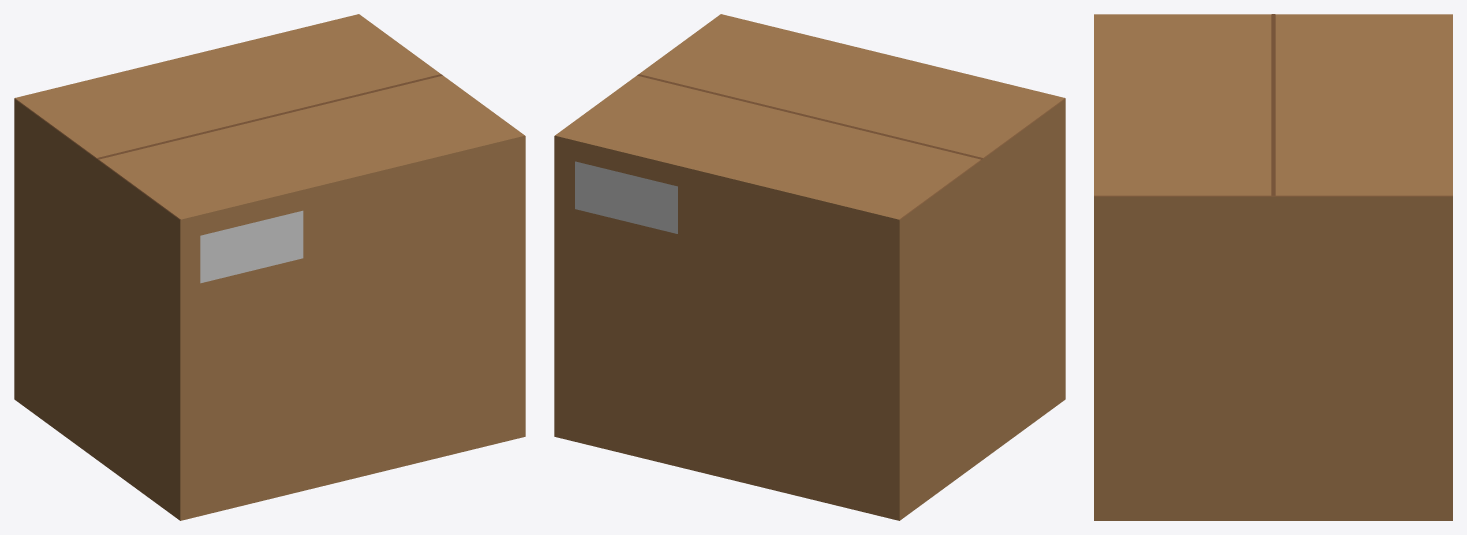
File: restock_box.glb
The picture shows the model from 3 angles, left to right: view 1: azimuth 30°, elevation 25°; view 2: azimuth 150°, elevation 25°; view 3: azimuth 270°, elevation 25°; orthographic projection. The views are drawn at different scales.
Visible parts, largest first — view 1: restock_box; view 2: restock_box; view 3: restock_box.
Boxes of the visible parts, box(x1,y1,x2,y2) form: restock_box: box(14, 14, 525, 520); restock_box: box(554, 14, 1065, 520); restock_box: box(1094, 14, 1452, 520).
Size of the model in its own units: 0.6 by 0.5 by 0.5.
1 material, 1 textured.
